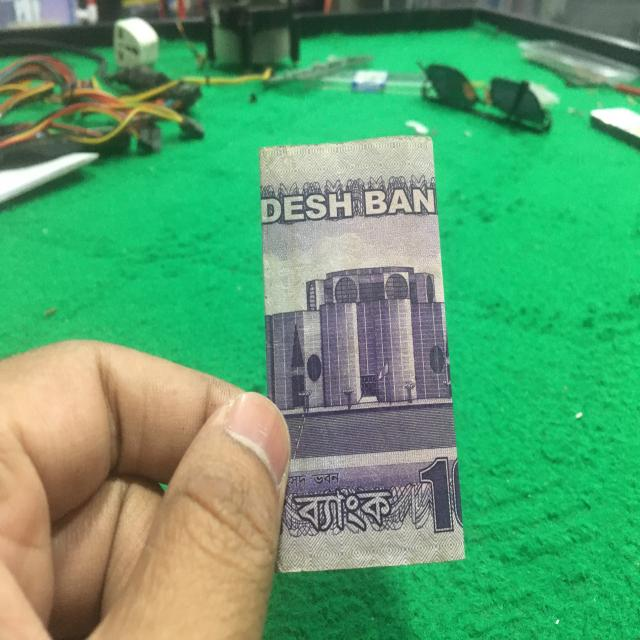Taka: (257, 144, 464, 568)
